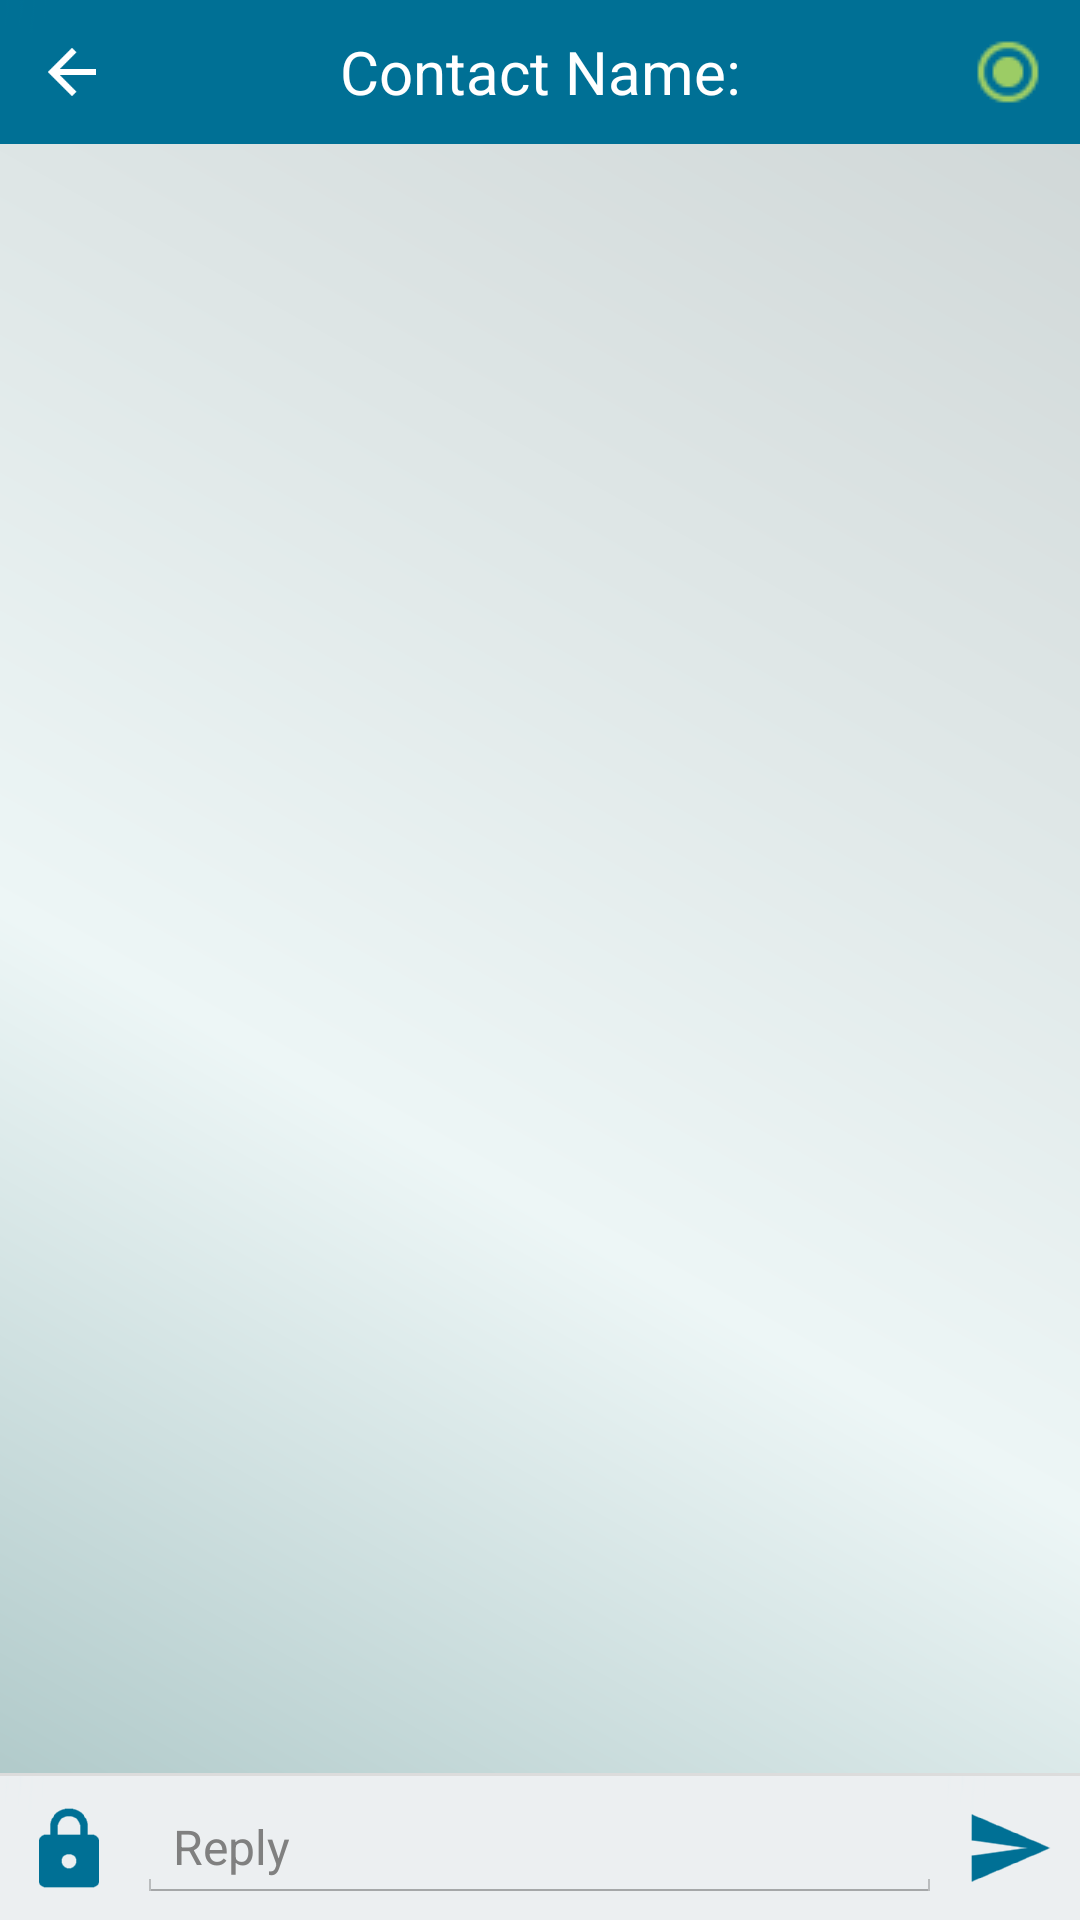

Icon bounding boxes for this 1080w x 1920h phone screenshot, format bbox=(x1, y1, x2, y2):
Back: bbox=(48, 48, 96, 96)
Encrypt: bbox=(39, 1808, 99, 1888)
Send: bbox=(971, 1814, 1050, 1882)
